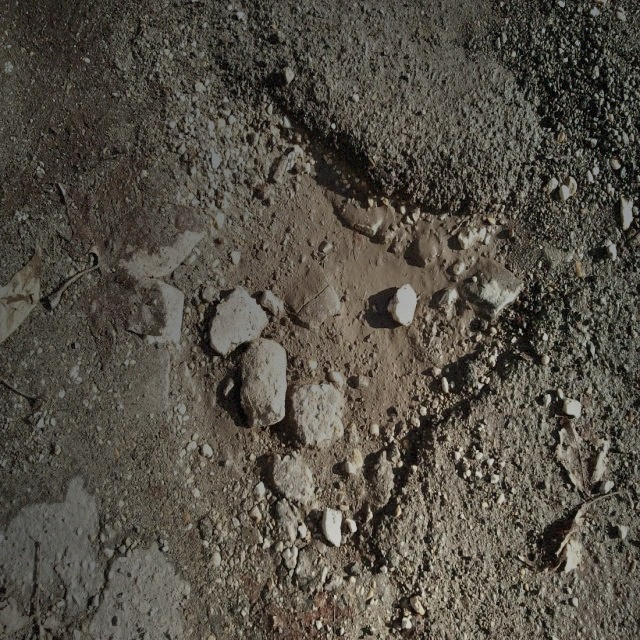pothole: (145, 118, 541, 572)
